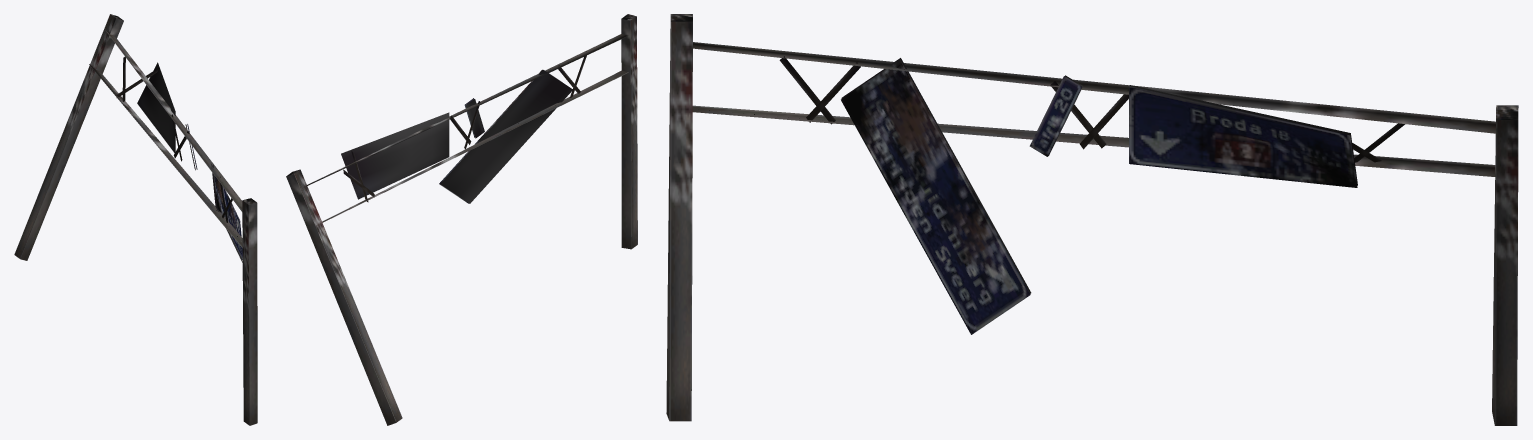
File: Environment - Prop - Highway Sign 01 - Damaged - PMHwySgn01_D.glb
The picture shows the model from 3 angles, left to right: view 1: azimuth 30°, elevation 25°; view 2: azimuth 150°, elevation 25°; view 3: azimuth 270°, elevation 25°; orthographic projection. The views are drawn at different scales.
Visible parts, largest first — view 1: PMHWYSGN01_D; view 2: PMHWYSGN01_D; view 3: PMHWYSGN01_D.
Part boxes in pixels (bbox=[...]): PMHWYSGN01_D: bbox=[14, 14, 257, 425]; PMHWYSGN01_D: bbox=[286, 14, 637, 425]; PMHWYSGN01_D: bbox=[666, 14, 1518, 425].
Size of the model in its own units: 19.05 by 38.94 by 73.96.
1 material, 1 textured.
